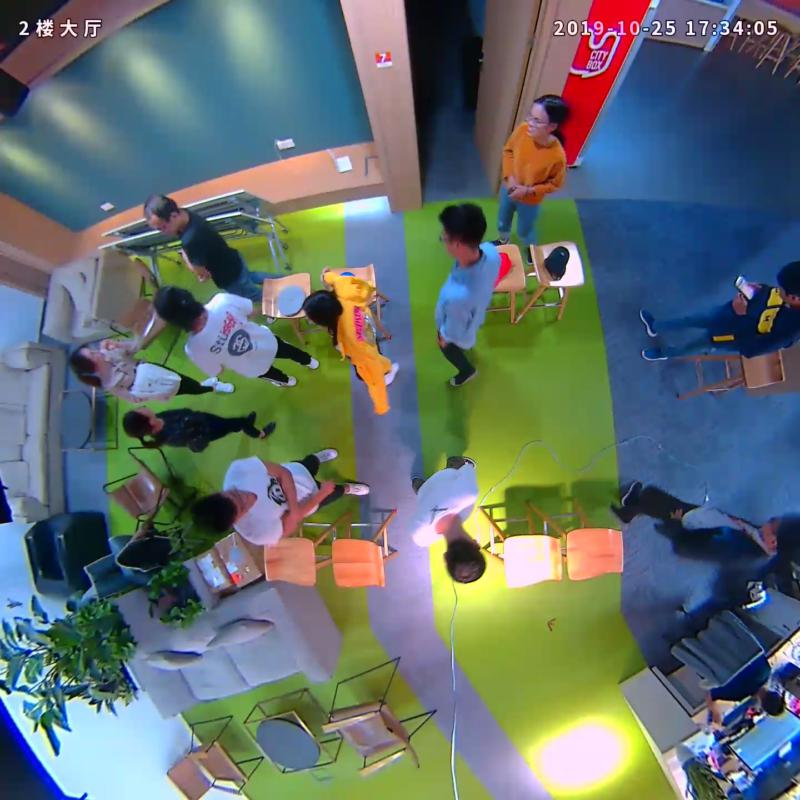head: (192, 487, 254, 535), (438, 203, 488, 258), (442, 530, 486, 585), (526, 94, 570, 138), (154, 286, 197, 328), (760, 513, 800, 557), (141, 192, 178, 237), (301, 290, 340, 325), (69, 347, 106, 372), (123, 409, 154, 436)
